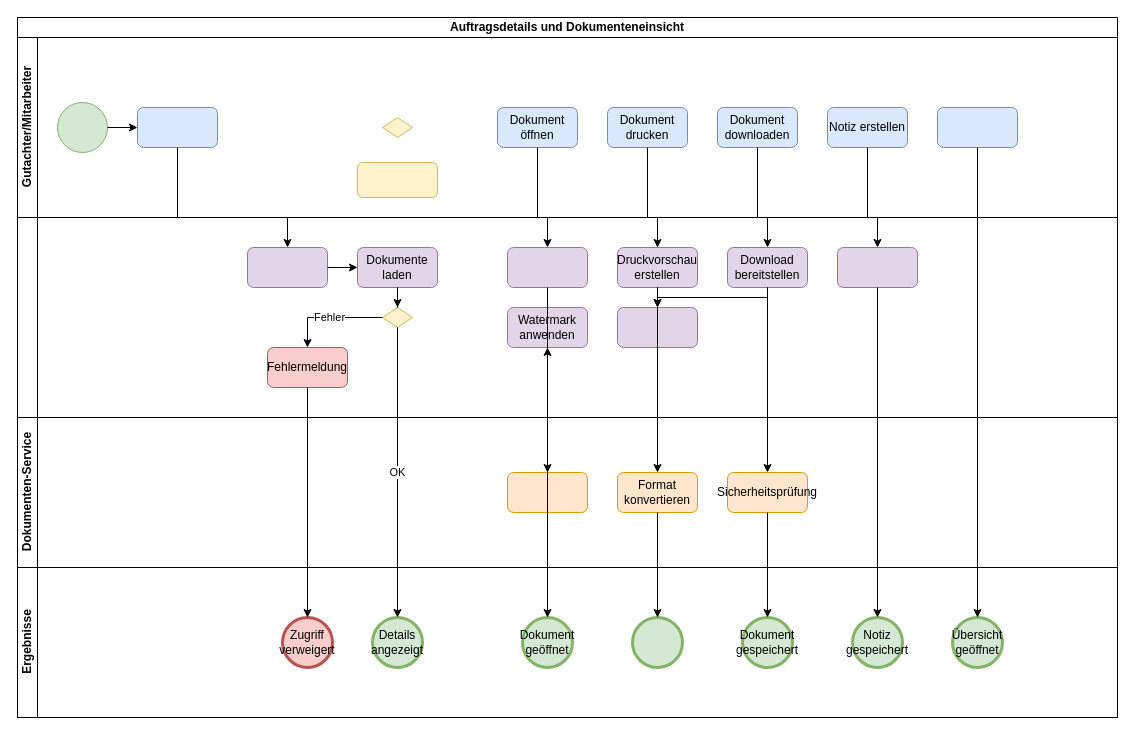
Some shapes in this 1135 by 735 pixel diagram are drawn without their labels. The box of each missing label's shape, as (x1, y1, x2, y2) in pixels:
Audit-Log erstellen: (616, 306, 698, 348)
Auftrag auswählen: (136, 106, 218, 148)
Auftragsdetails benötigt: (56, 102, 108, 152)
Auftragsdetails laden: (246, 246, 328, 288)
Berechtigung prüfen: (356, 162, 438, 198)
Dokument gedruckt: (630, 616, 684, 668)
Dokument validieren: (506, 472, 588, 512)
Notiz speichern: (836, 246, 918, 288)
PDF-Viewer starten: (506, 246, 588, 288)
System: (16, 216, 1118, 418)
Zurück zur Übersicht: (936, 106, 1018, 148)
